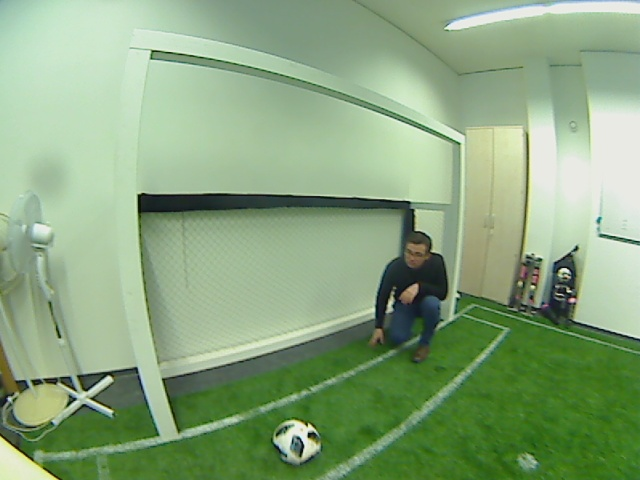ball: (272, 417, 321, 463)
